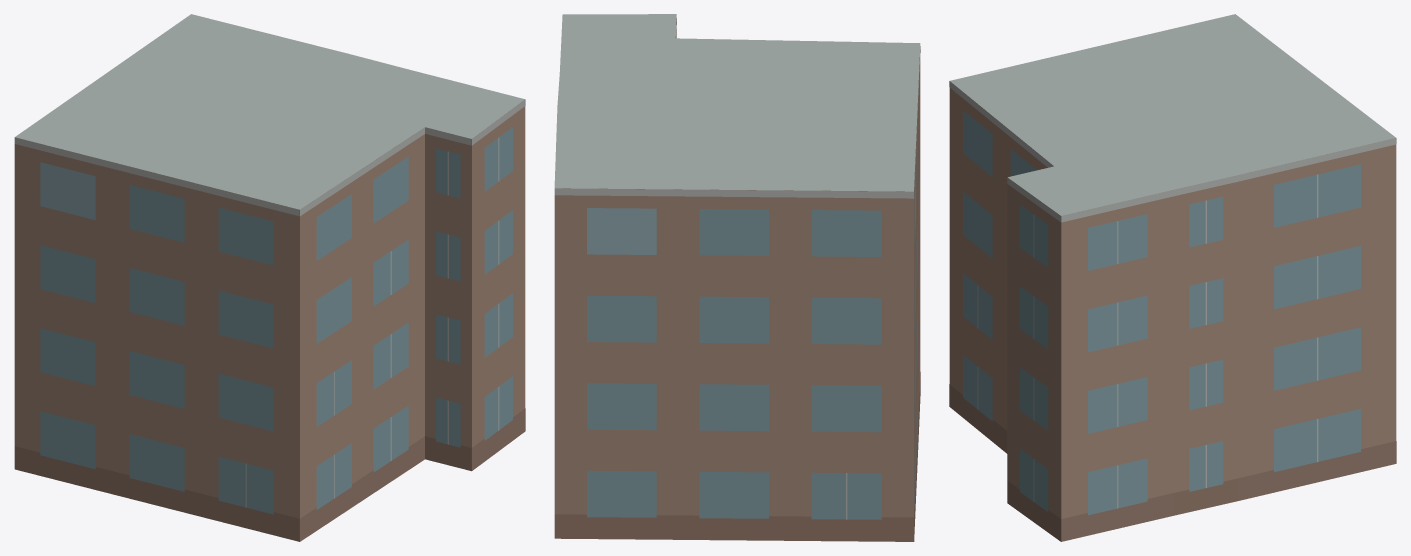
File: survey-upis-32849032.glb
The picture shows the model from 3 angles, left to right: view 1: azimuth 30°, elevation 25°; view 2: azimuth 150°, elevation 25°; view 3: azimuth 270°, elevation 25°; orthographic projection. The views are drawn at different scales.
Visible parts, largest first — view 1: survey-upis-32849032.tmp; view 2: survey-upis-32849032.tmp; view 3: survey-upis-32849032.tmp.
Part boxes in pixels (x1,y1,x2,y2): survey-upis-32849032.tmp: (14,14,525,541); survey-upis-32849032.tmp: (554,14,920,541); survey-upis-32849032.tmp: (949,14,1396,541).
Size of the model in its own units: 16.23 by 12.2 by 15.17.
